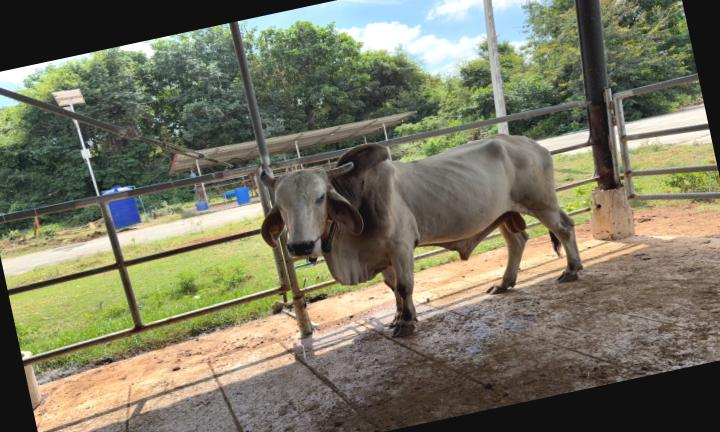Brahman: (261, 134, 582, 336)
